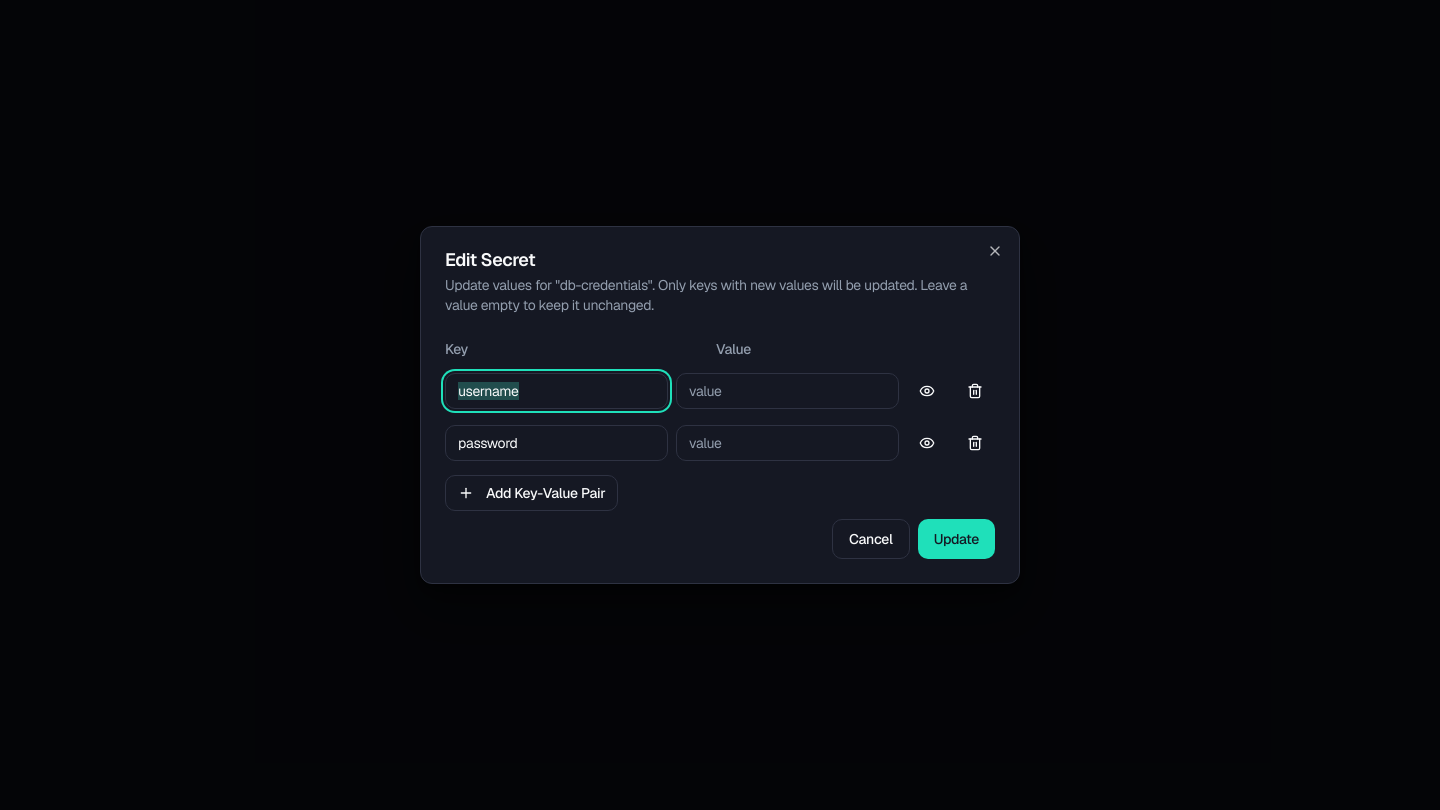
EditSecretDialog › allows removing an existing key row
Expected: the number of fields named "Key " is 2, 445,373 -> 668,409; 445,425 -> 668,461
# Click remove on the first row
Click the 1st button named "Remove row" at (975, 391), box 955,371 -> 995,411
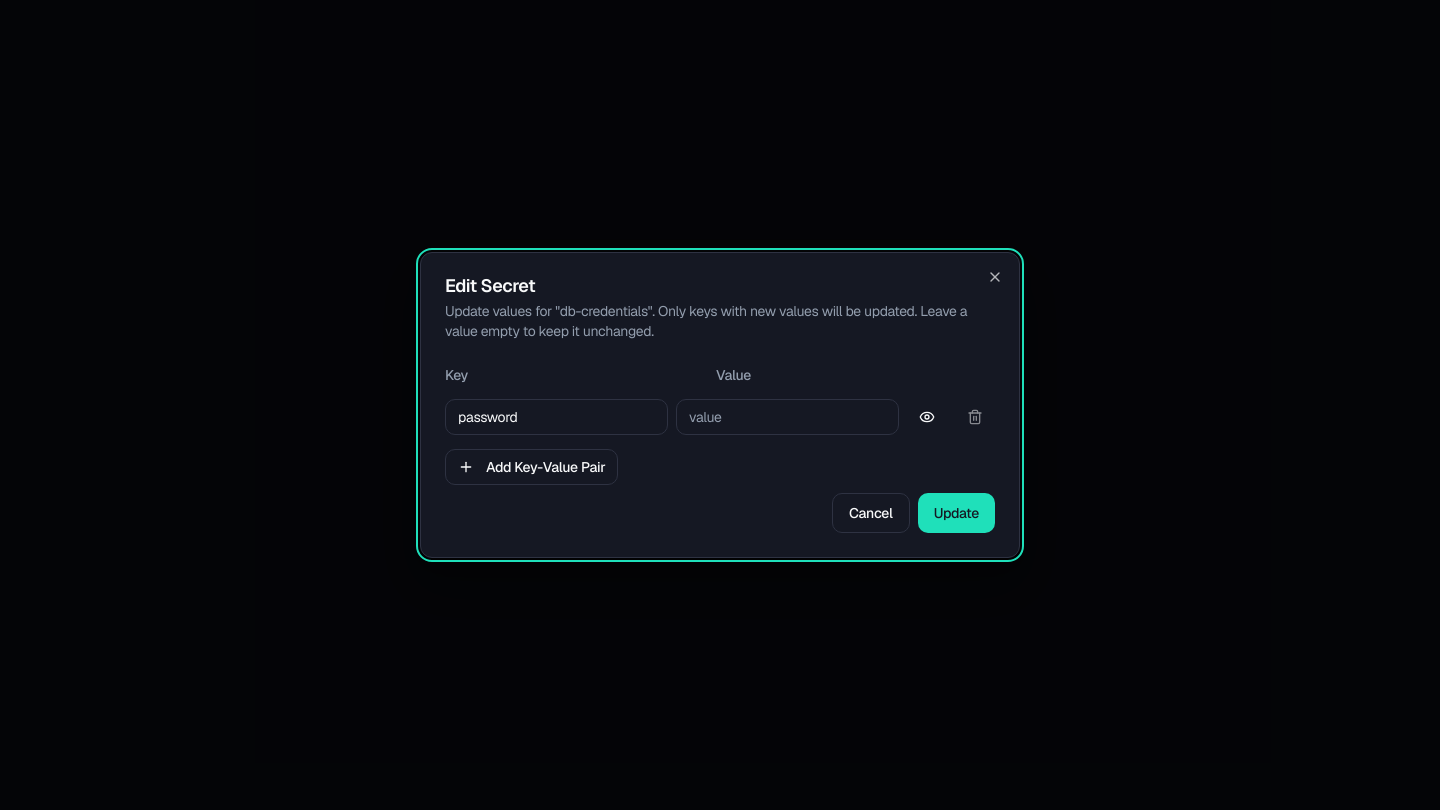
Now the number of fields named "Key " is 1, box 445,399 -> 668,435
